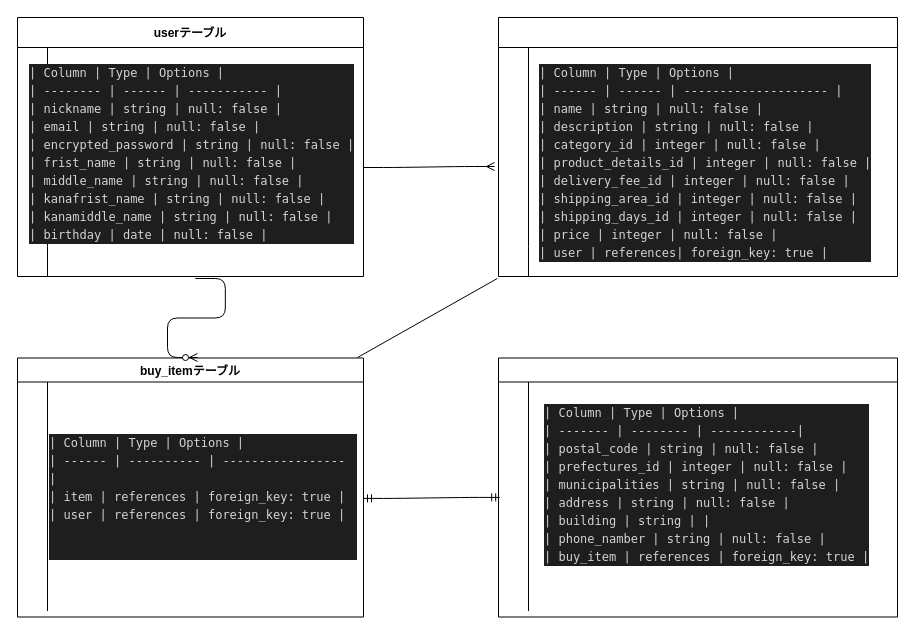
The diagram is 915 pixels wide and 635 high, and some of its shapes have lost their labels. The shapes that lost their labels are listed below. From the top down, each one's centre as x and y in pixels, then its label:
point (698, 146): itemテーブル
point (698, 487): shipping_addressテーブル
